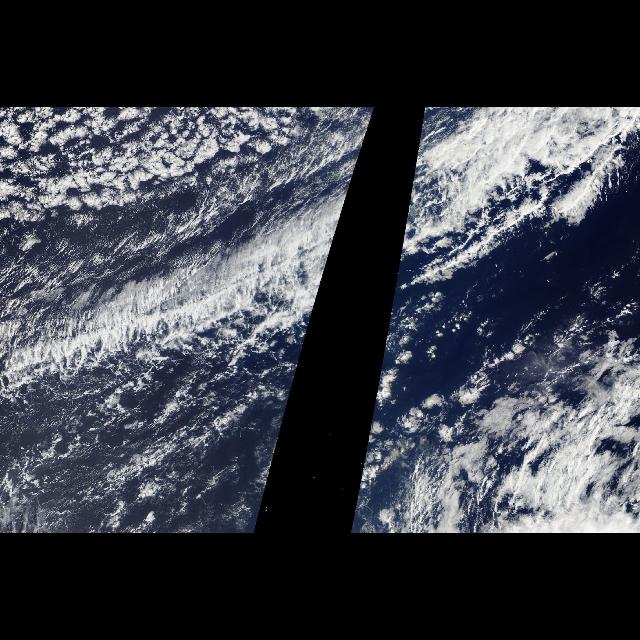Fish: (3, 107, 375, 401), (374, 107, 636, 401)
Flower: (2, 110, 298, 226)
